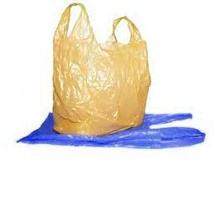plastic_bag: (48, 0, 152, 140), (11, 102, 210, 158)
